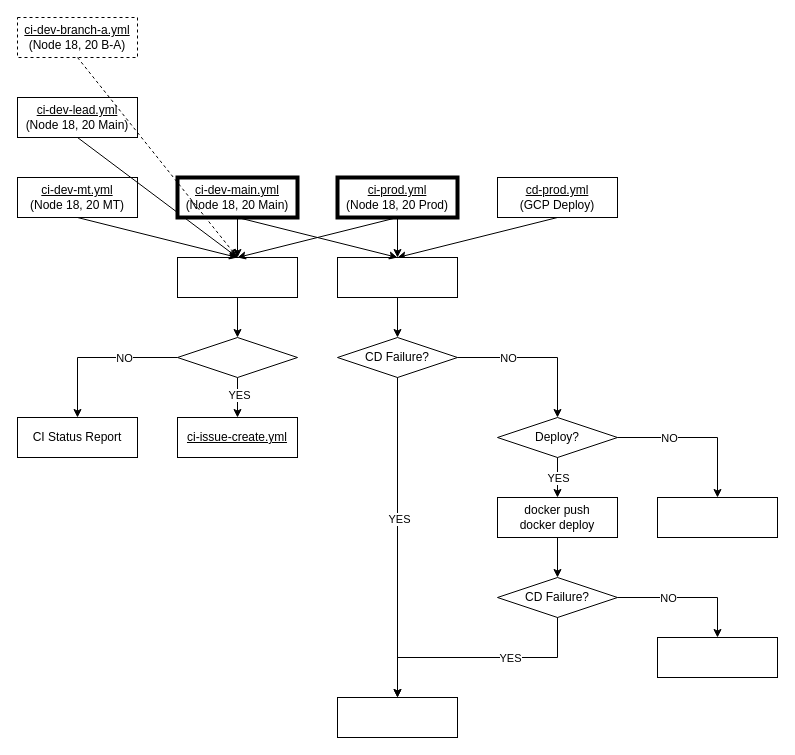
The diagram is 795 pixels wide and 755 high, and some of its shapes have lost their labels. The shapes that lost their labels are listed below. From the top down, each one's centre as x and y in pixels, then its label:
At (x=237, y=277): "ci-common.yml (npm run review-ci)".
At (x=397, y=277): "cd-common.yml (docker build)".
At (x=237, y=357): "CI Failure?".
At (x=717, y=517): "Build Status Report".
At (x=717, y=657): "CD Status Report".
At (x=397, y=717): "cd-issue-create.yml".
